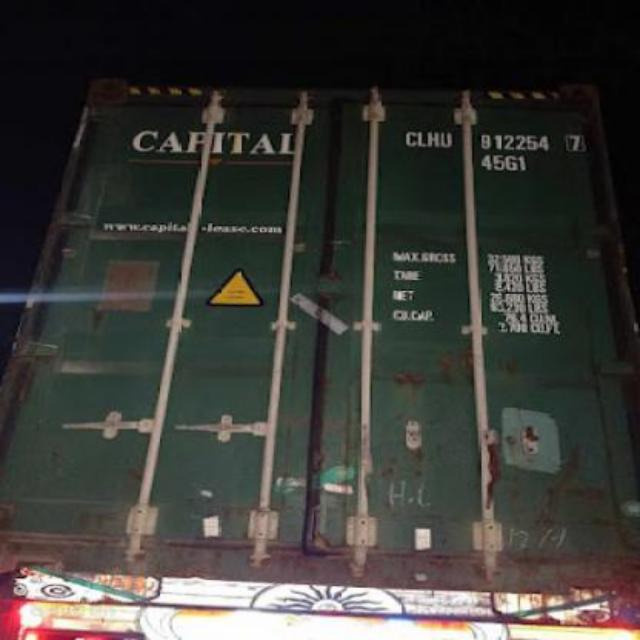1: (491, 126, 504, 152)
2: (514, 121, 526, 151), (504, 127, 516, 151)
4: (538, 128, 554, 156)
5: (524, 130, 538, 154)
7: (564, 127, 586, 153)
9: (478, 127, 492, 151)
C: (402, 124, 416, 148)
H: (424, 120, 440, 152)
L: (416, 122, 429, 148)
U: (438, 120, 454, 150)
